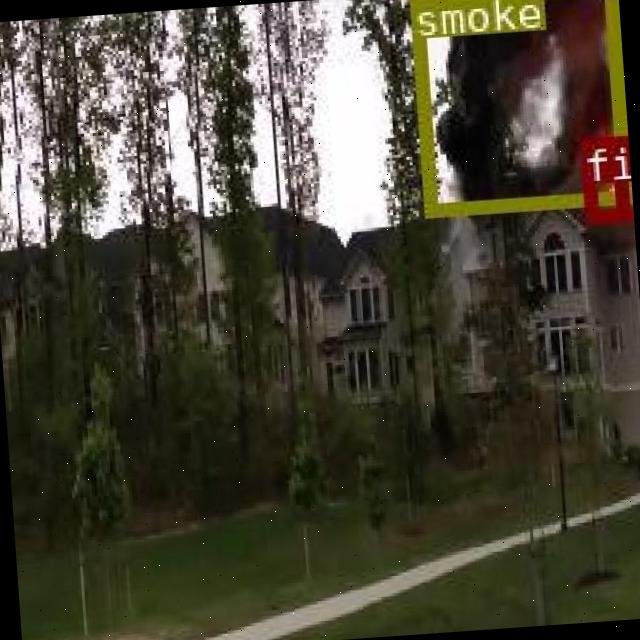fire: (578, 134, 626, 220)
smoke: (406, 0, 626, 213)
